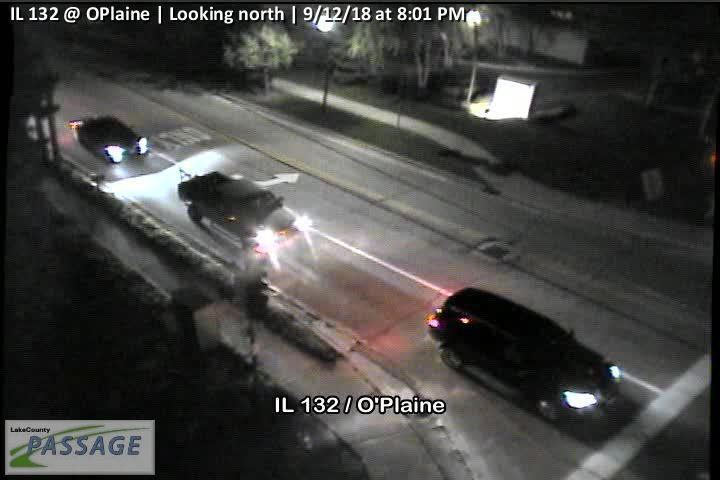SUV: (428, 288, 621, 423)
Sedan: (79, 117, 147, 164)
Truck: (178, 171, 294, 252)
